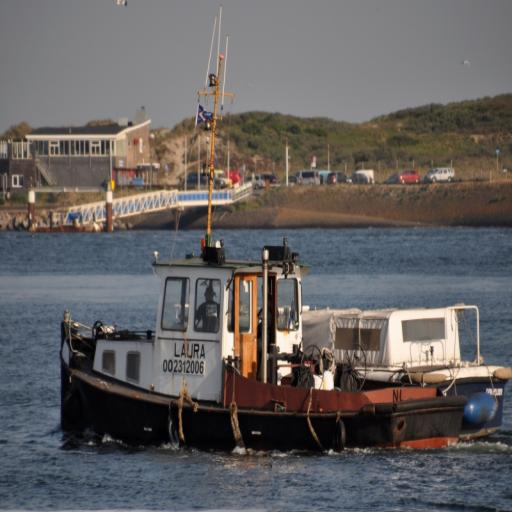tugboat: (54, 235, 512, 462)
